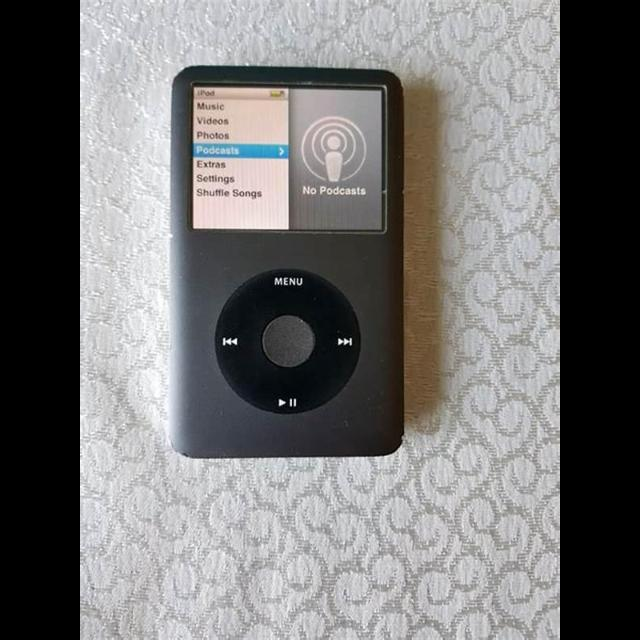Music-Player: (155, 56, 417, 468)
